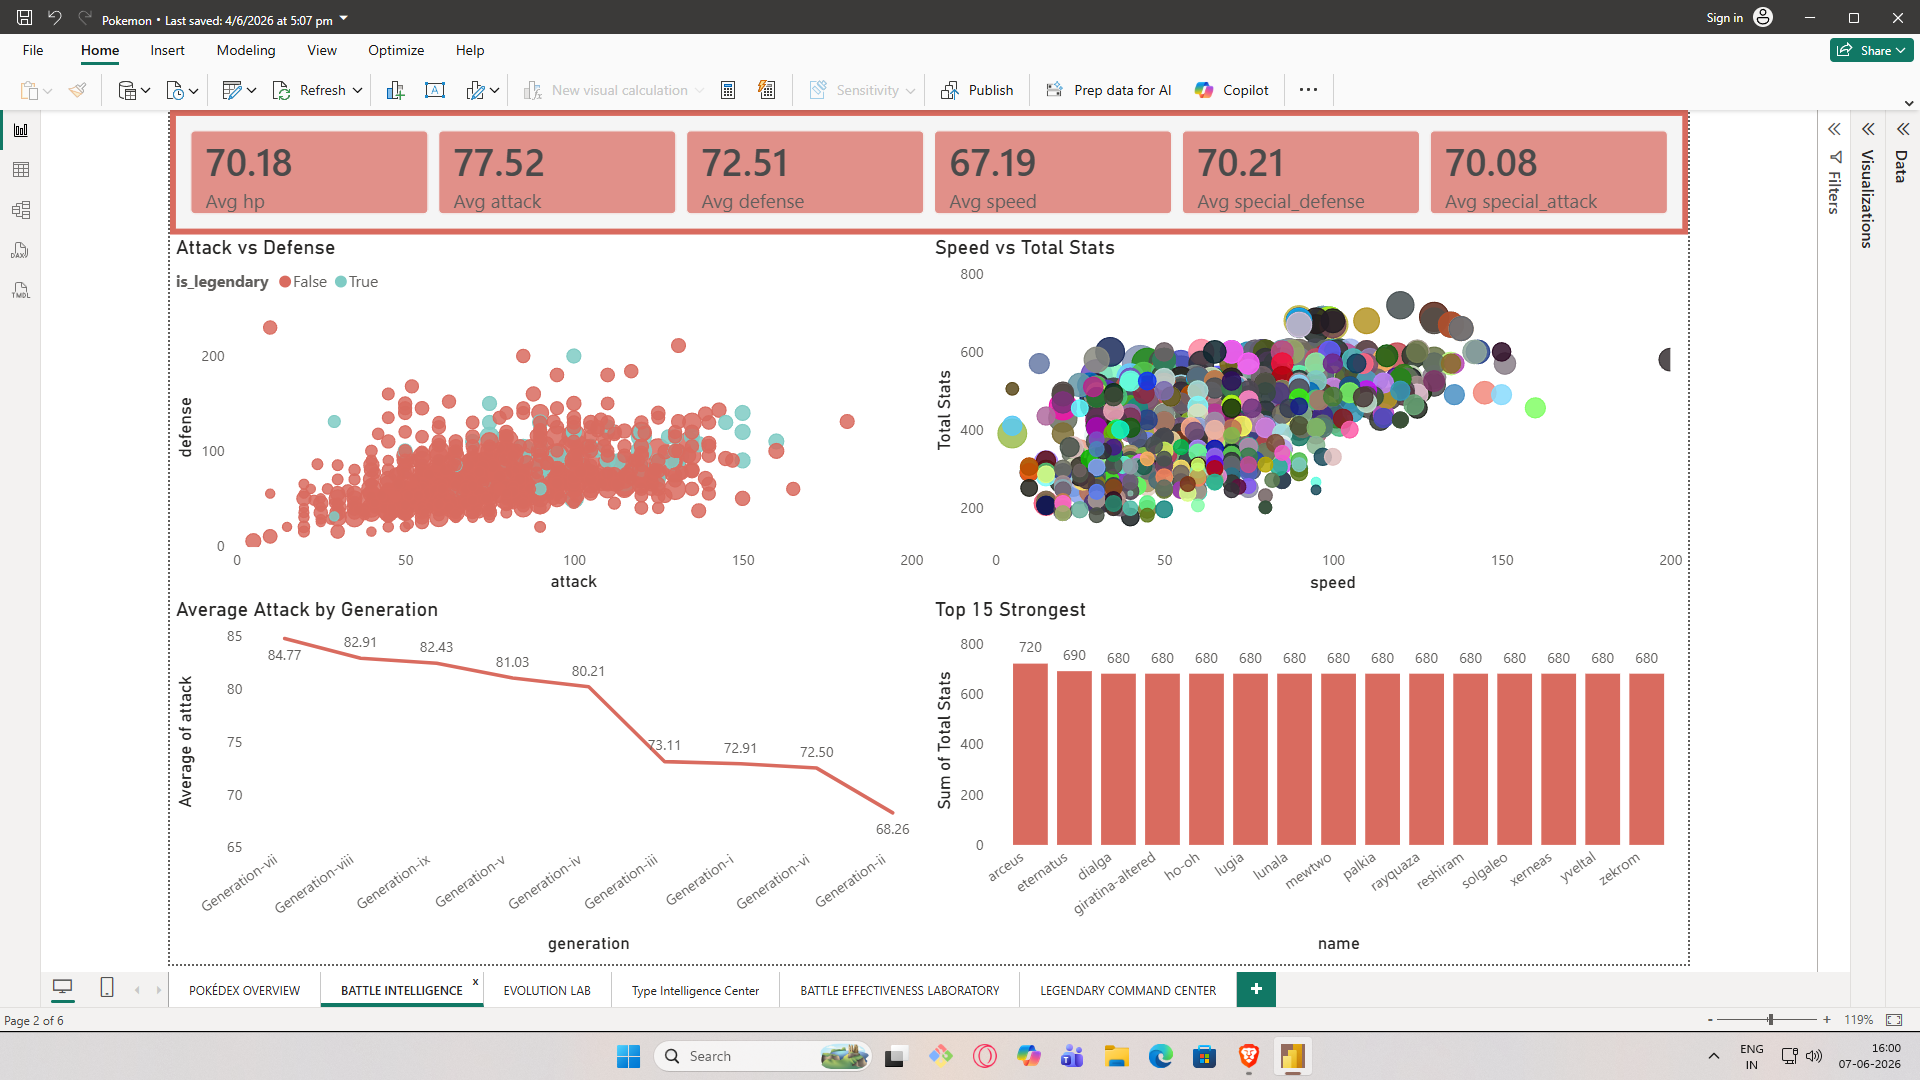

Layout of this report page (visuals, bound fields, positions):
{"tool":"powerbi","page":{"name":"BATTLE INTELLIGENCE","canvas":[1280,720],"ordinal":1},"visuals":[{"type":"scatterChart","title":"Attack vs Defense","fields":{"X":["Pokemon.attack"],"Y":["Pokemon.defense"],"Size":["Sum(Pokemon.Total Stats)"],"Series":["Pokemon.is_legendary"]},"box":[0,105,640,305.4],"z":0},{"type":"scatterChart","title":"Speed vs Total Stats","fields":{"X":["Pokemon.speed"],"Y":["Pokemon.Total Stats"],"Size":["Sum(Pokemon.hp)"],"Series":["Pokemon.name"]},"box":[640,105,640,305.4],"z":1000},{"type":"lineChart","title":"Average Attack by Generation","fields":{"Category":["Pokemon.generation"],"Y":["Avg(Pokemon.attack)"]},"box":[0,410.5,640,305],"z":2000},{"type":"clusteredColumnChart","title":"Top 15 Strongest","fields":{"Category":["Pokemon.name"],"Y":["Sum(Pokemon.Total Stats)"]},"box":[640,410.5,640,305],"z":3000},{"type":"cardVisual","fields":{"Data":["Avg(Pokemon.hp)","Avg(Pokemon.attack)","Avg(Pokemon.defense)","Avg(Pokemon.speed)","Avg(Pokemon.special_defense)","Avg(Pokemon.special_attack)"]},"box":[0,0,1280,105],"z":4000}]}

Visuals, with their boxes on the page's 1280x720 design canvas (x1, y1, x2, y2). These are canvas units, not pixel positions in the 1920x1080 screenshot, which may show the page scaled, cropped or inside an application window:
"Attack vs Defense" scatterChart: (0,105,640,410)
"Speed vs Total Stats" scatterChart: (640,105,1280,410)
"Average Attack by Generation" lineChart: (0,410,640,716)
"Top 15 Strongest" clusteredColumnChart: (640,410,1280,716)
cardVisual - Avg(Pokemon.hp) x Avg(Pokemon.attack): (0,0,1280,105)
